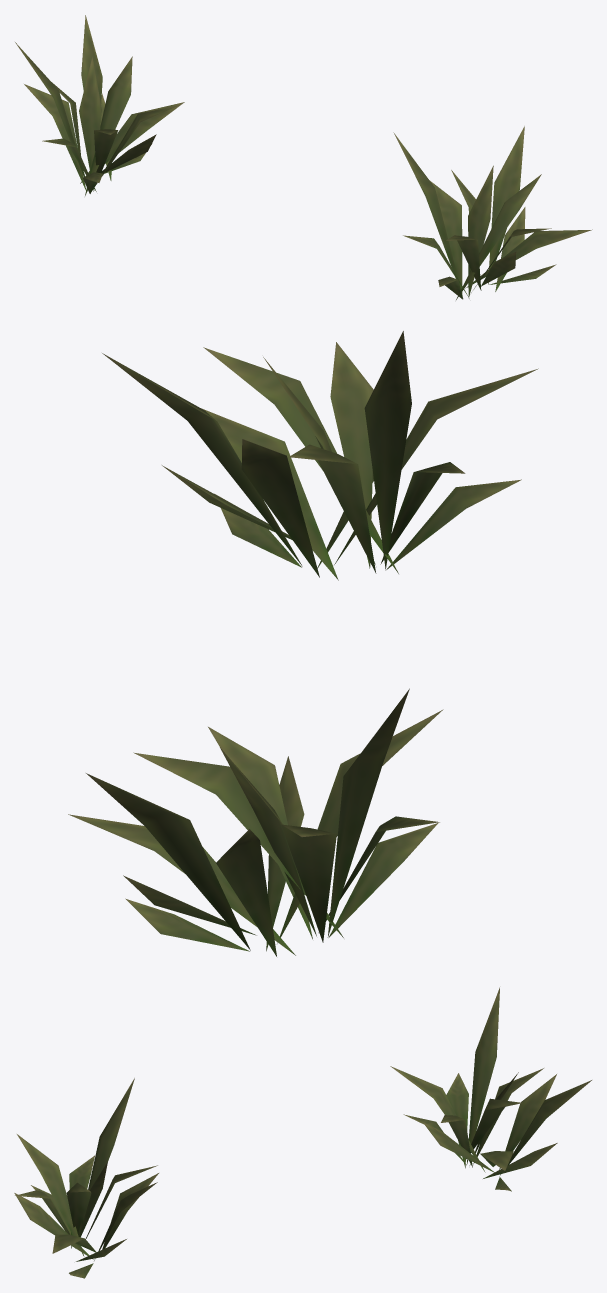
The model's file is Area_15_38.fbx.
3 views of the same model, one above another, from view 1: azimuth 30°, elevation 25°; view 2: azimuth 150°, elevation 25°; view 3: azimuth 270°, elevation 25° (orthographic). The views are drawn at different scales.
Parts seen in each view (by area): view 1: Area_15_38; view 2: Area_15_38; view 3: Area_15_38.
Boxes of the visible parts, x1,y1,x2,y2 form: Area_15_38: (15, 15, 592, 299); Area_15_38: (68, 331, 538, 956); Area_15_38: (14, 987, 591, 1278).
Size of the model in its own units: 217 by 93.02 by 322.
